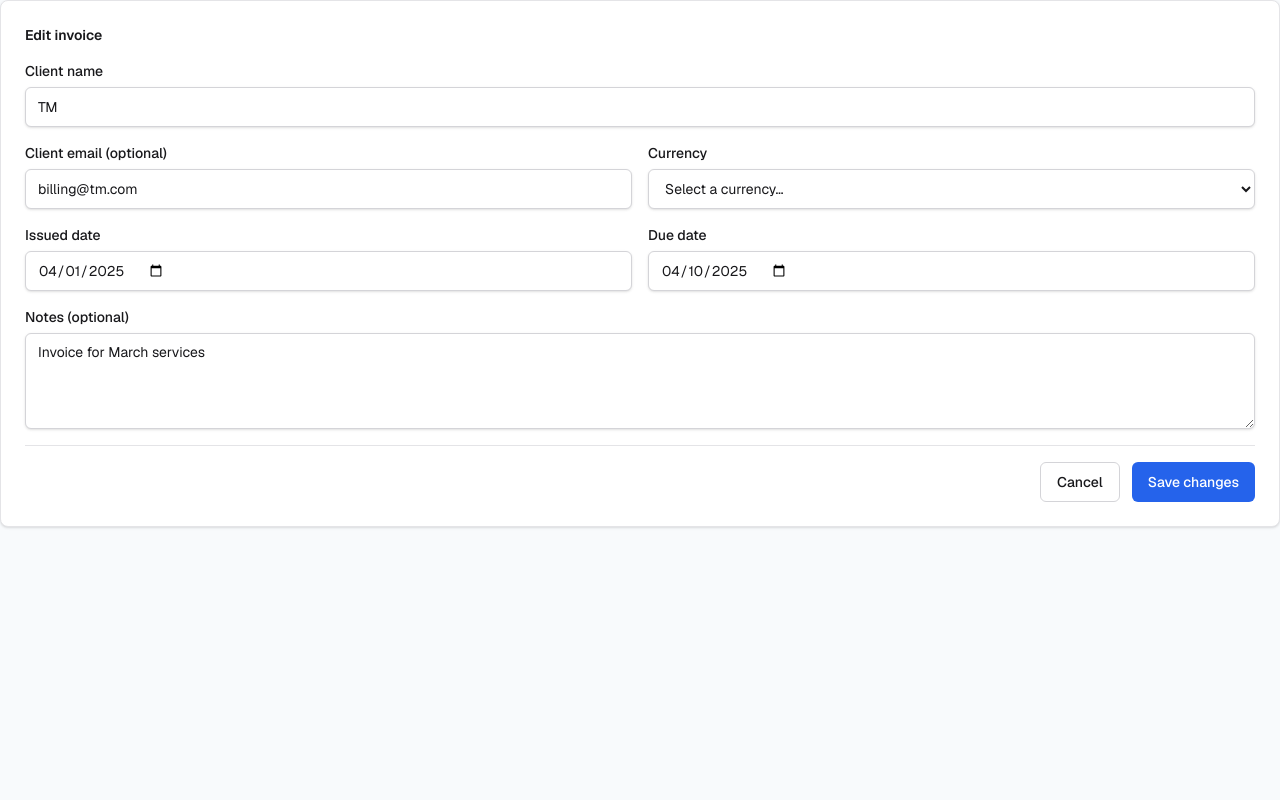
Test: InvoiceEditForm › shows an error message when the update fails
Check: the field labelled "Client name" is shown, box [25,87,1255,127]
What coordinates should you click on to do the following:
click the button "Save changes"
I would click on:
 (1193, 482)
Its box is [1132,462,1255,502].
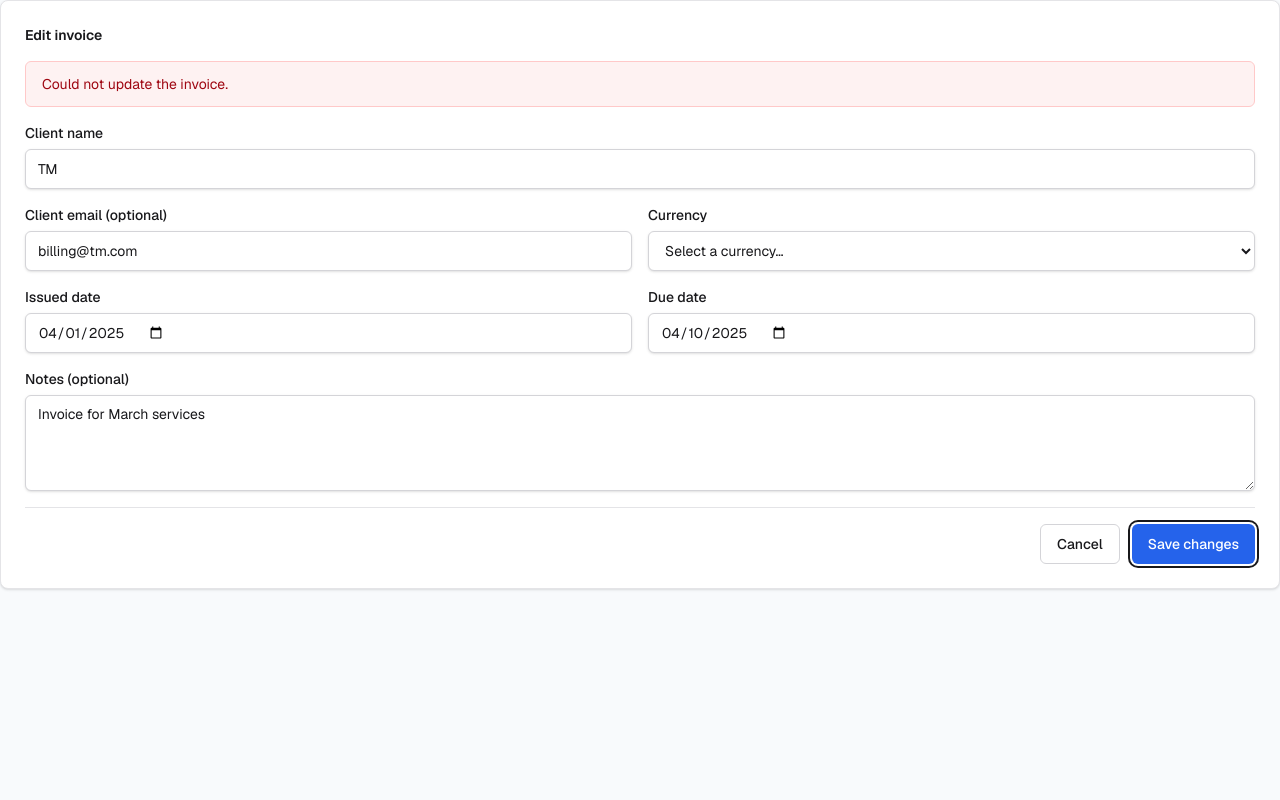
Check: the message "Could not update the invoice." is shown, box [25,61,1255,107]
